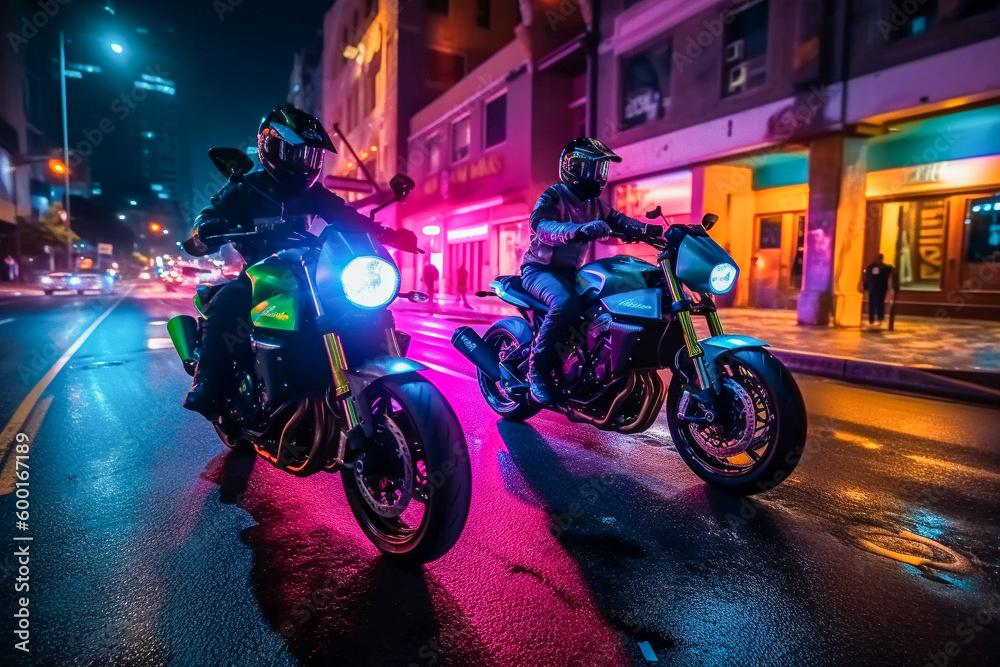helmet: (256, 102, 339, 197), (558, 136, 623, 200)
